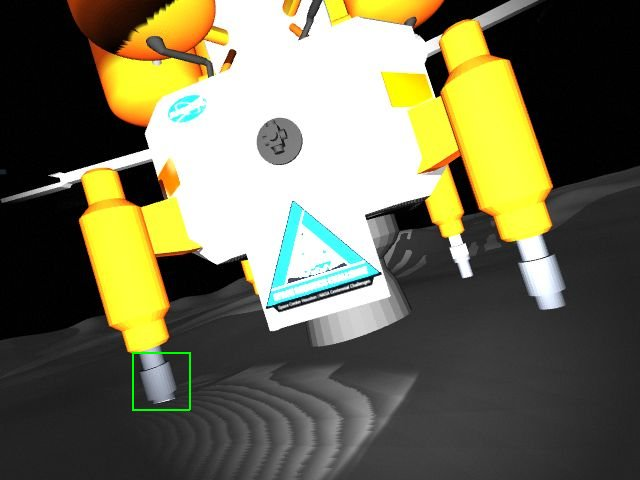basemarker: (266, 200, 384, 313)
